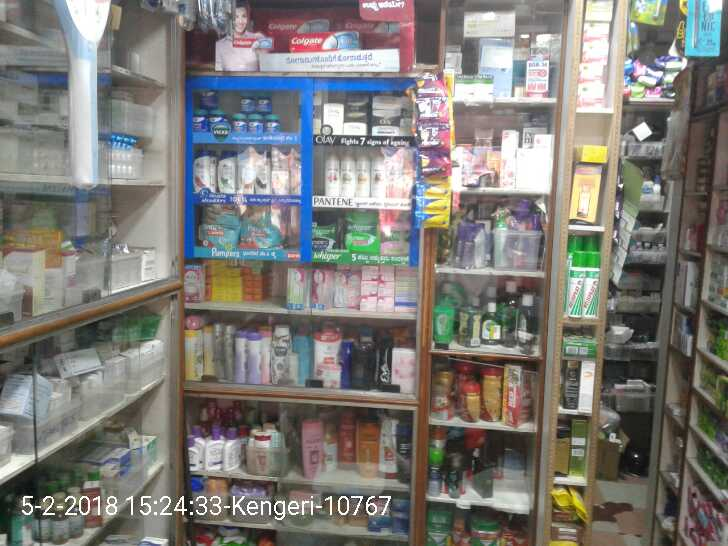beauty: (187, 147, 214, 193), (341, 93, 368, 132), (216, 149, 235, 197), (318, 97, 341, 135), (353, 159, 373, 202), (340, 152, 356, 203), (324, 147, 339, 200), (372, 107, 399, 135), (369, 158, 387, 200)
pharmacy: (195, 192, 242, 251), (239, 197, 287, 250), (333, 207, 377, 253), (229, 110, 283, 134), (231, 88, 283, 110), (312, 217, 338, 257), (378, 220, 407, 254), (192, 110, 225, 130)
